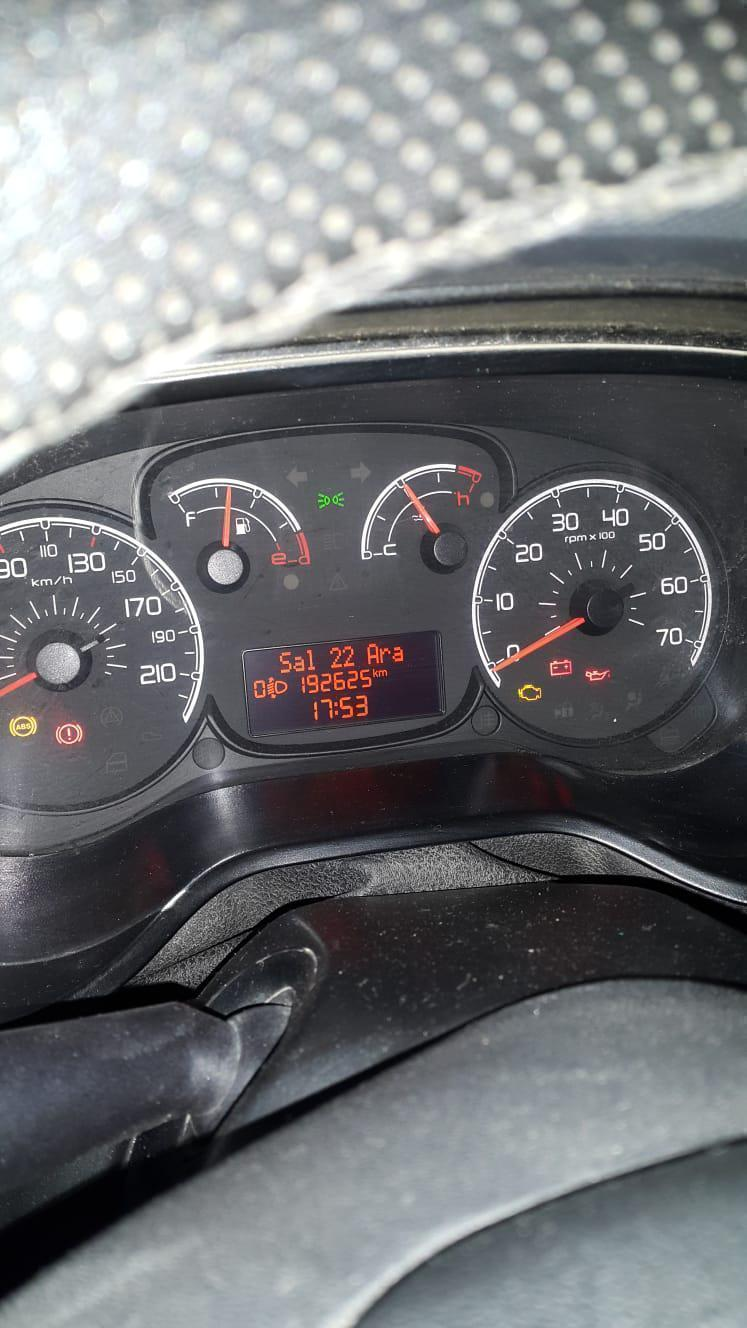0: (252, 677, 265, 699)
1: (311, 697, 319, 723), (300, 674, 306, 695)
2: (328, 645, 342, 668), (343, 644, 357, 667), (346, 669, 358, 690), (320, 672, 332, 693)
3: (355, 692, 368, 718)
5: (339, 695, 354, 718), (359, 668, 371, 689)
6: (332, 669, 346, 691)
7: (320, 696, 333, 720)
9: (306, 673, 318, 694)
X: (278, 650, 292, 673), (305, 647, 317, 672), (367, 641, 379, 664), (391, 646, 404, 663), (293, 654, 305, 672), (379, 645, 390, 663), (332, 700, 339, 716), (378, 668, 388, 678), (371, 667, 378, 678)
odometer: (238, 628, 449, 740)
